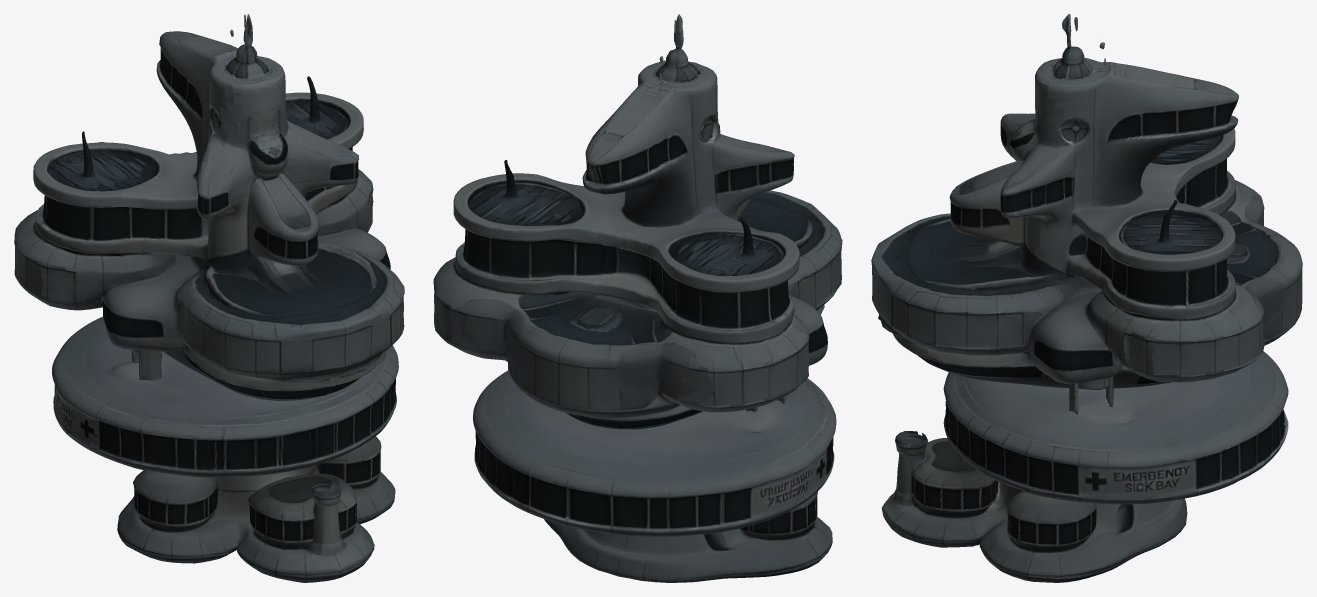
The model's file is structure.glb.
The picture shows the model from 3 angles, left to right: view 1: azimuth 30°, elevation 25°; view 2: azimuth 150°, elevation 25°; view 3: azimuth 270°, elevation 25°; orthographic projection. The views are drawn at different scales.
Visible parts, largest first — view 1: root.0, root.1, root.2; view 2: root.0, root.1, root.2; view 3: root.0, root.1, root.2.
Part boxes in pixels (<box>): root.0: <box>14,14,404,400</box>; root.1: <box>52,316,398,477</box>; root.2: <box>117,436,395,582</box>; root.0: <box>433,14,842,429</box>; root.1: <box>473,370,836,536</box>; root.2: <box>544,491,832,582</box>; root.0: <box>871,14,1302,414</box>; root.1: <box>943,351,1288,504</box>; root.2: <box>882,431,1187,582</box>.
Bounding box in the file's own units: 104 × 149 × 113.
Materials: 3 (3 with a texture image).
